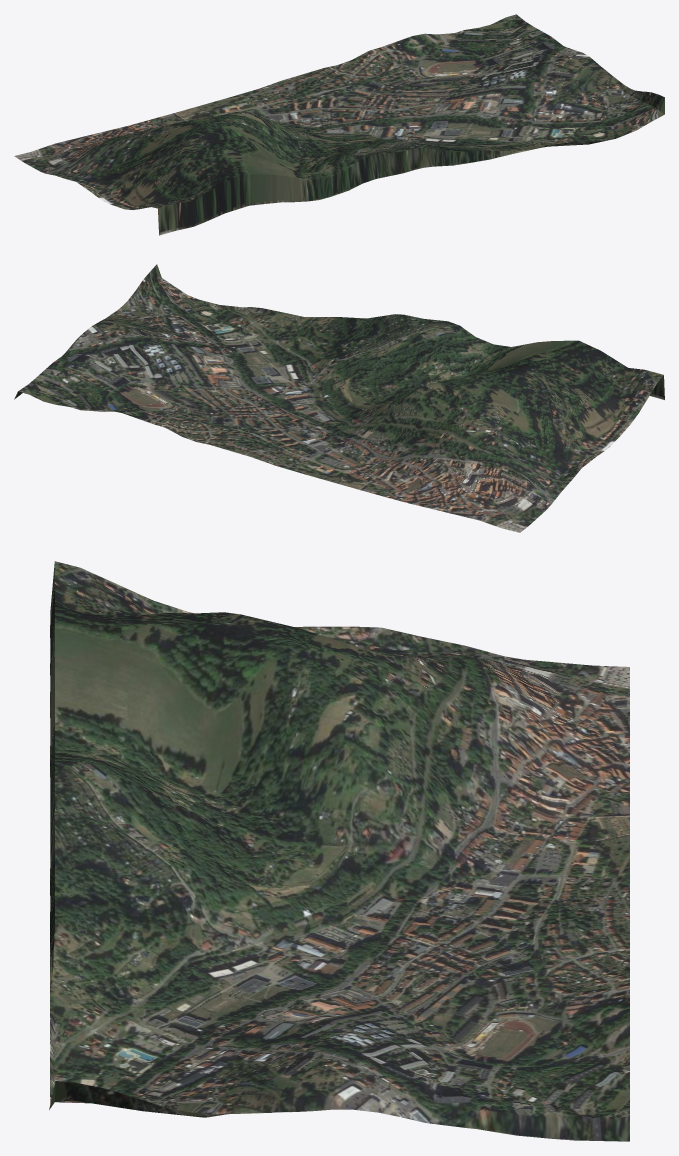
Rendered from Schmalkaldendownscaled.fbx.
3 renders of one model, top to bottom at view 1: azimuth 30°, elevation 25°; view 2: azimuth 150°, elevation 25°; view 3: azimuth 270°, elevation 25°, orthographic. The views are drawn at different scales.
Visible parts, largest first — view 1: Plane; view 2: Plane; view 3: Plane.
Part boxes in pixels (x1=…): Plane: x1=14, y1=14, x2=664, y2=235; Plane: x1=14, y1=264, x2=664, y2=532; Plane: x1=49, y1=561, x2=629, y2=1141.
Bounding box in the file's own units: 397 × 49.91 × 197.
Materials: 1 (1 with a texture image).
